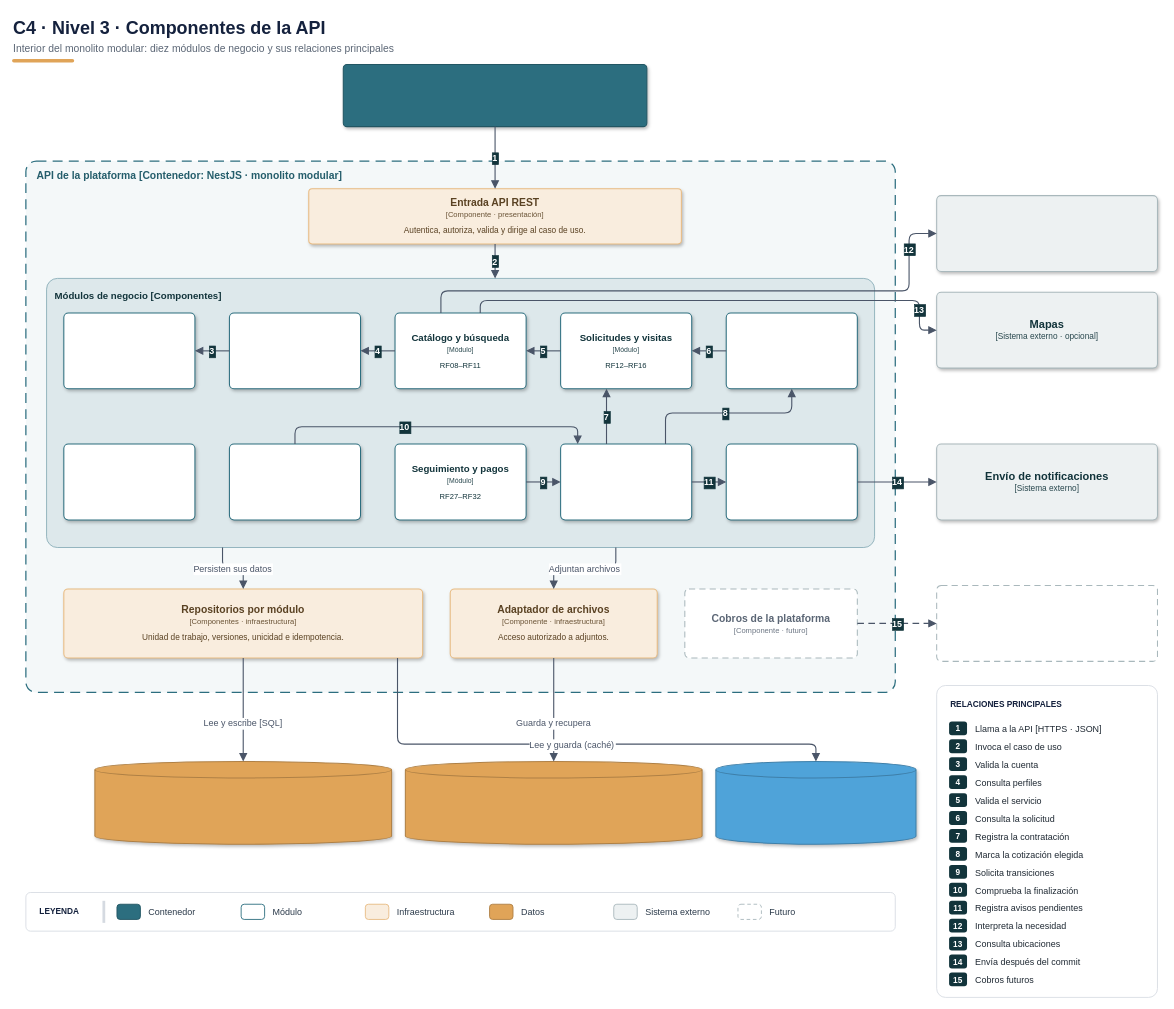
Image size: 1174x1009. Some labels were removed from this diagram. Here are the shapes that lost their labels. From the top down, the centre of each, then its label:
(x=495, y=96): Aplicación web [Contenedor: React + Vite]
(x=1047, y=234): Servicio de IA [Sistema externo]
(x=129, y=351): Usuarios y acceso [Módulo] RF01–RF05
(x=295, y=351): Prestadores [Módulo] RF06–RF07
(x=792, y=351): Cotizaciones [Módulo] RF17–RF19
(x=129, y=482): Administración e incidencias [Módulo] RF37–RF45
(x=295, y=482): Calificaciones [Módulo] RF34
(x=626, y=482): Contrataciones y acuerdos [Módulo] RF20–RF26 · RF33
(x=792, y=482): Notificaciones [Módulo] RF35
(x=1047, y=623): Pasarela de pagos [Sistema externo · futuro]
(x=243, y=803): Base de datos [Contenedor: PostgreSQL]
(x=554, y=803): Almacenamiento de archivos [Contenedor: objetos · bucket privado]
(x=816, y=803): Caché de lectura [Redis · caché de lectura]
